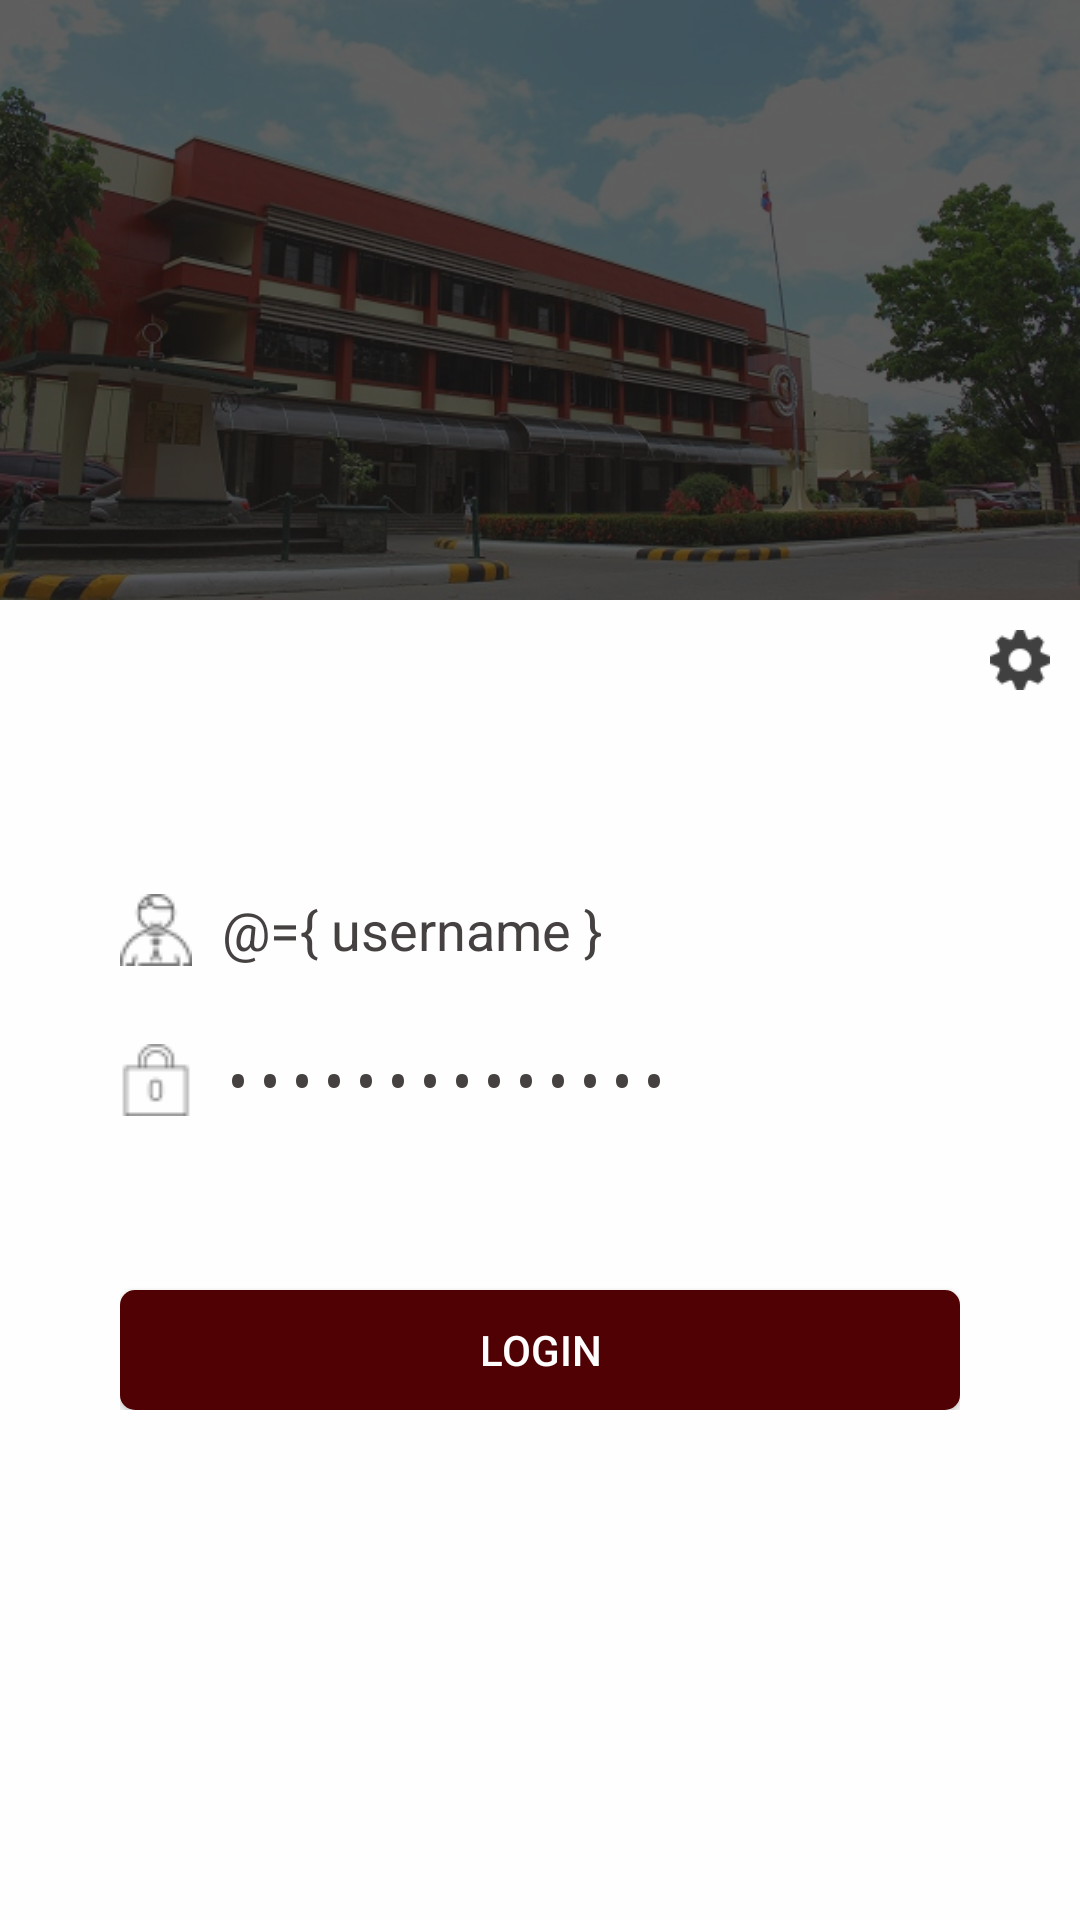

Icon click points for this 1080px×1920px phone screenshot, format point (x, y):
gear: point (1020, 660)
